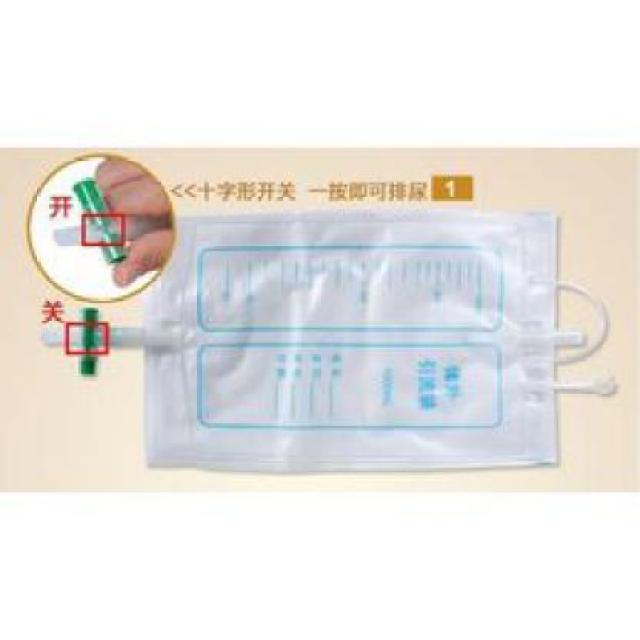B3: (39, 206, 618, 480)
